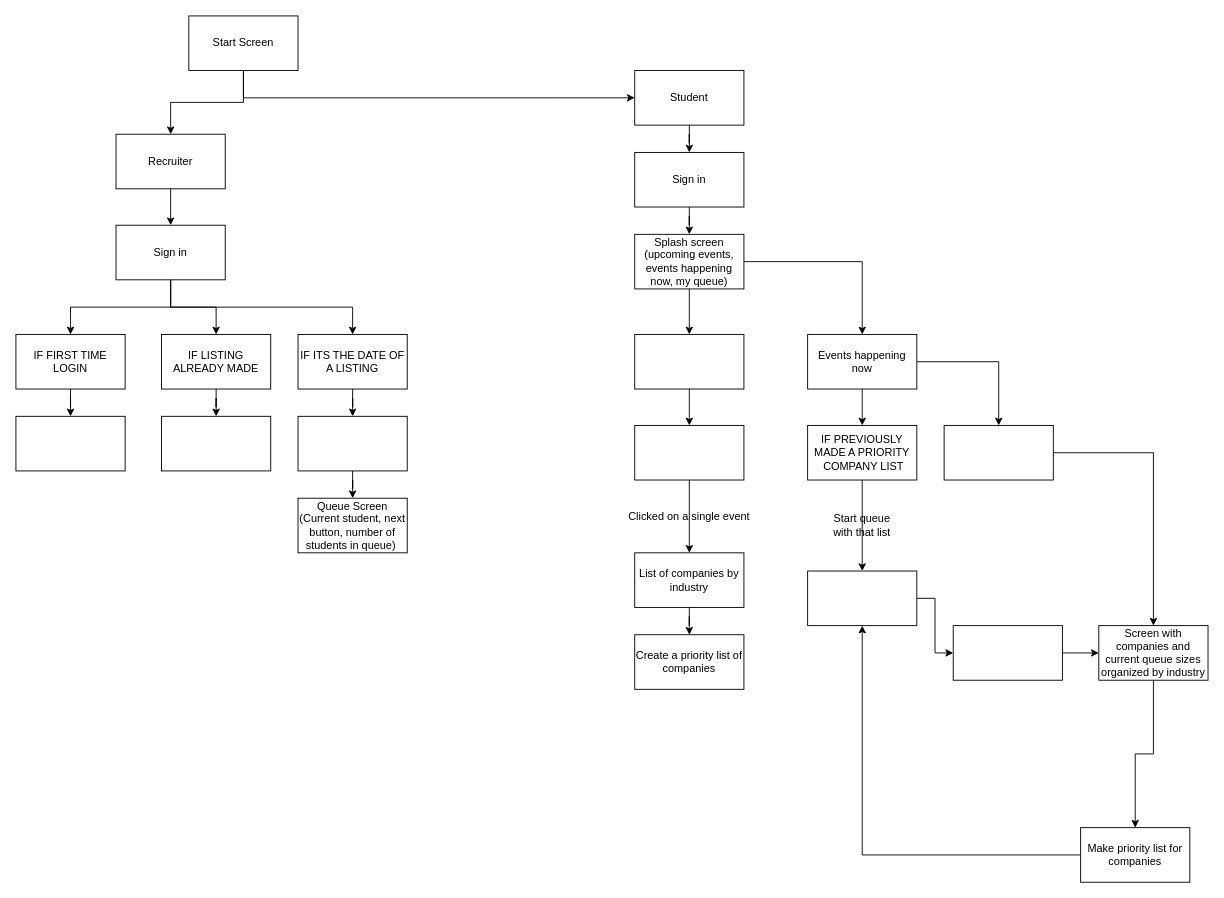
The diagram is 1224 pixels wide and 898 high, and some of its shapes have lost their labels. Here are the shapes that lost their labels. From the top down, the centre of each, then its label:
At point (689, 361): "Upcoming events".
At point (70, 443): "Make a listing".
At point (216, 443): "Edit exising listing".
At point (352, 443): "Begin queue".
At point (689, 452): "List of events".
At point (998, 452): "IF A COMPANY PRIORITY LIST HAS NOT BEEN MADE".
At point (862, 598): "Queue screen (queue positions on each company, edit queue list button)".
At point (1007, 652): "Edit queue list".
